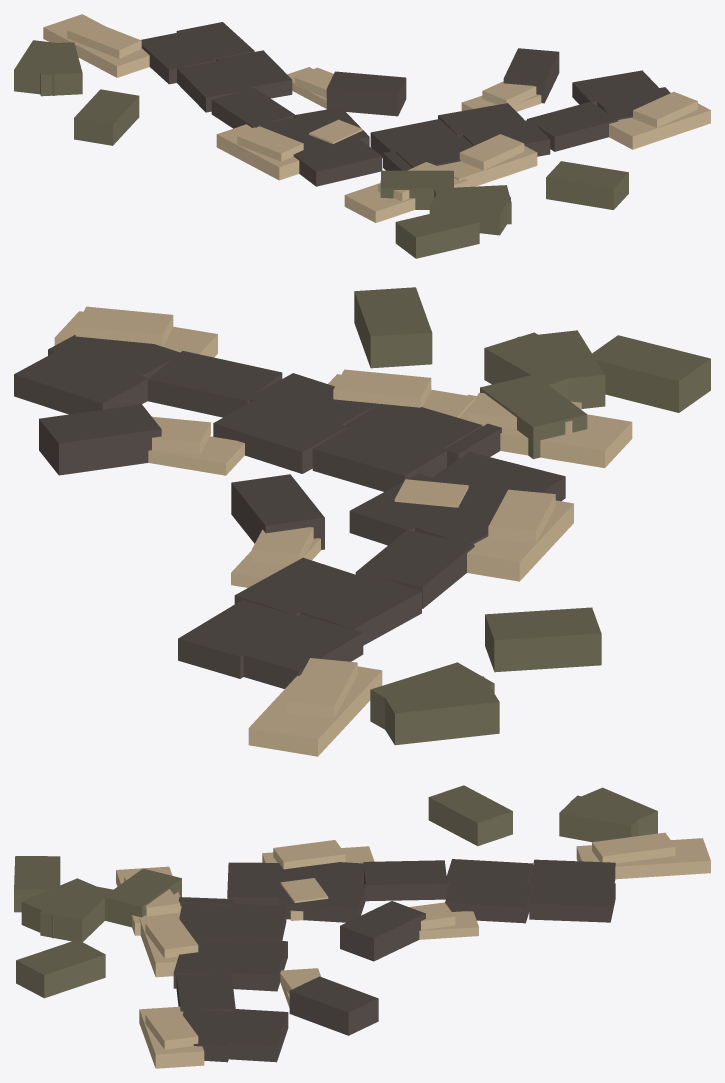
The model's file is SM_SacosEsquina_v2_Irregular_e3_Brecha_LOD1.fbx.
3 renders of one model, top to bottom at view 1: azimuth 30°, elevation 25°; view 2: azimuth 150°, elevation 25°; view 3: azimuth 270°, elevation 25°, orthographic. The views are drawn at different scales.
Visible parts, largest first — view 1: SM_sacos_piezas_v11_LOD1; view 2: SM_sacos_piezas_v11_LOD1; view 3: SM_sacos_piezas_v11_LOD1.
Part boxes in pixels (x1,y1,x2,y2): SM_sacos_piezas_v11_LOD1: (14, 14, 710, 258); SM_sacos_piezas_v11_LOD1: (14, 287, 710, 756); SM_sacos_piezas_v11_LOD1: (14, 785, 710, 1068).
Bounding box in the file's own units: 6.27 × 0.26 × 7.09.
